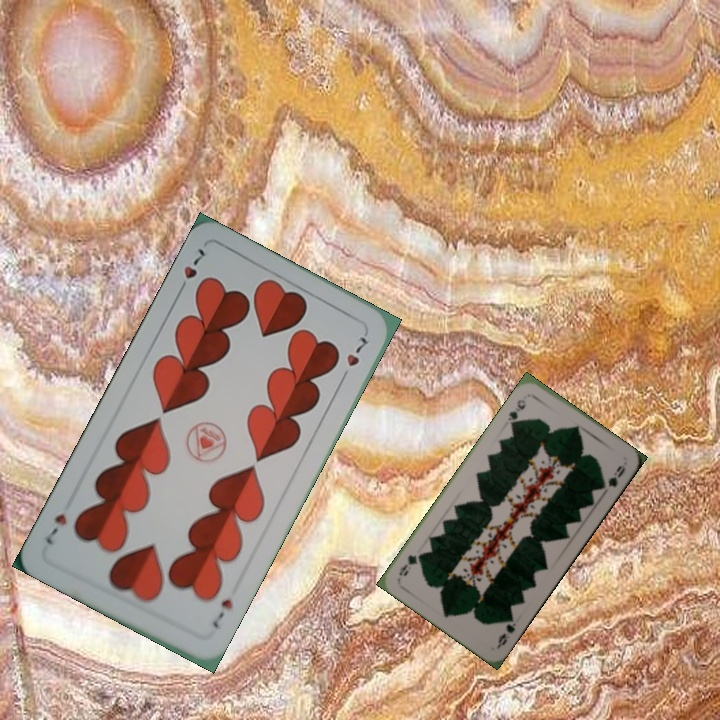G9: (493, 611, 519, 651), (504, 395, 529, 429)
H7: (173, 244, 210, 297), (208, 595, 236, 631)
